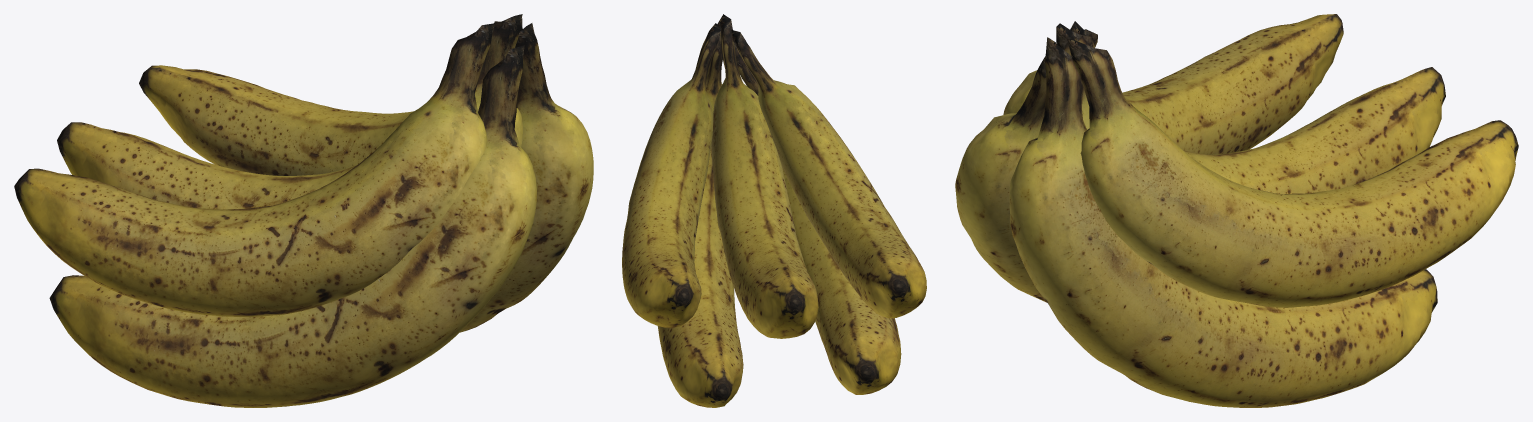
Rendered from banana.obj.
The picture shows the model from 3 angles, left to right: view 1: azimuth 30°, elevation 25°; view 2: azimuth 150°, elevation 25°; view 3: azimuth 270°, elevation 25°; orthographic projection. The views are drawn at different scales.
Parts seen in each view (by area): view 1: Object_2.004; view 2: Object_2.004; view 3: Object_2.004.
Boxes of the visible parts, x1,y1,x2,y2 form: Object_2.004: (14, 14, 593, 407); Object_2.004: (622, 14, 926, 407); Object_2.004: (955, 14, 1518, 407).
Bounding box in the file's own units: 1.91 × 1.61 × 1.98.
